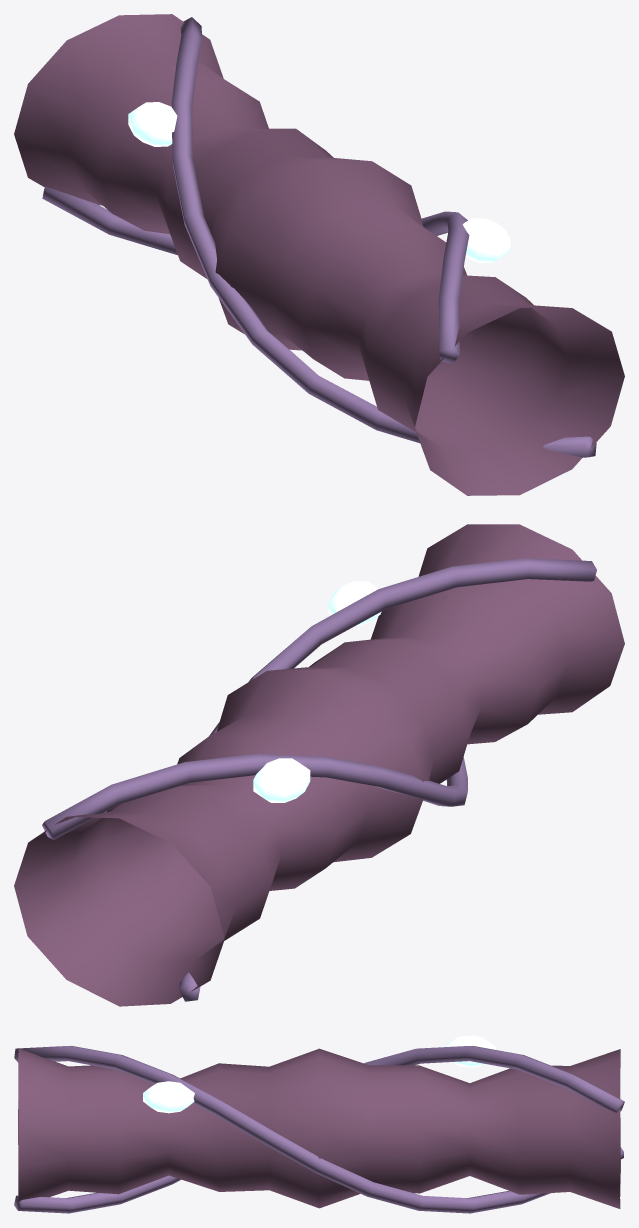
Rendered from vein.glb.
The picture shows the model from 3 angles, top to bottom: view 1: azimuth 30°, elevation 25°; view 2: azimuth 150°, elevation 25°; view 3: azimuth 270°, elevation 25°; orthographic projection. The views are drawn at different scales.
Visible parts, largest first — view 1: vein, glow; view 2: vein, glow; view 3: vein, glow.
Boxes of the visible parts, <box> form: vein: <box>14,14,624,495</box>; glow: <box>128,102,510,262</box>; vein: <box>14,524,624,1006</box>; glow: <box>253,581,381,802</box>; vein: <box>14,1046,624,1213</box>; glow: <box>143,1035,495,1113</box>.
Size of what is drawn, in the model's own units: 0.3165 by 0.2731 by 1.02.
